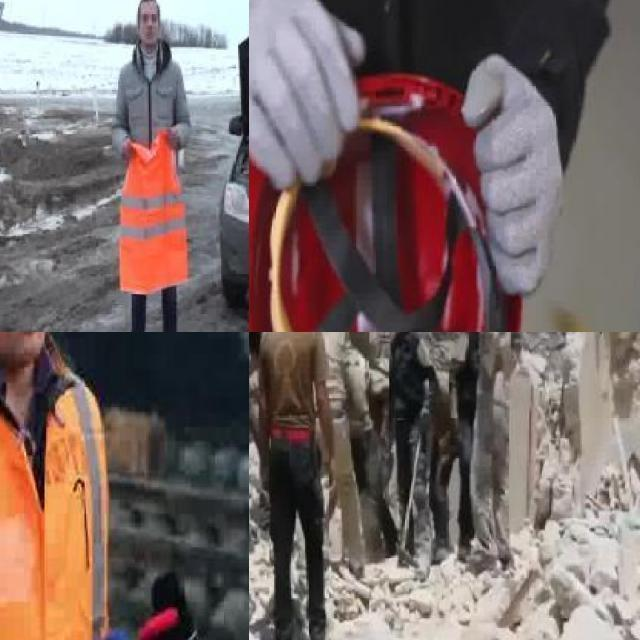apron: (460, 46, 565, 304), (249, 0, 367, 192)
